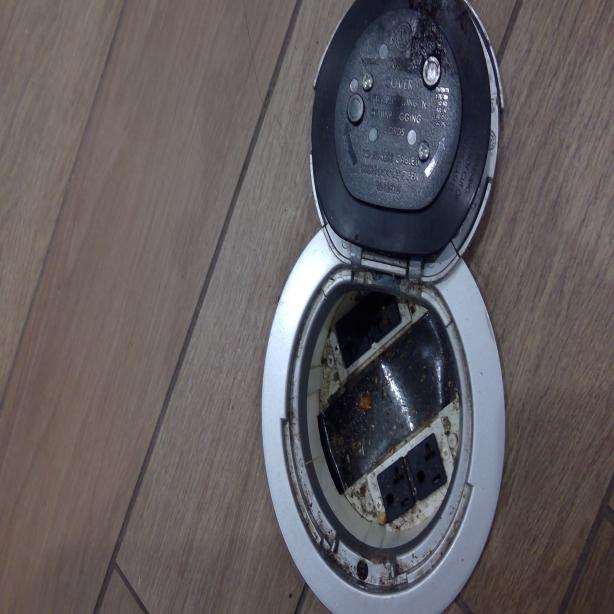typeb: (410, 439, 444, 492), (381, 464, 416, 511)
